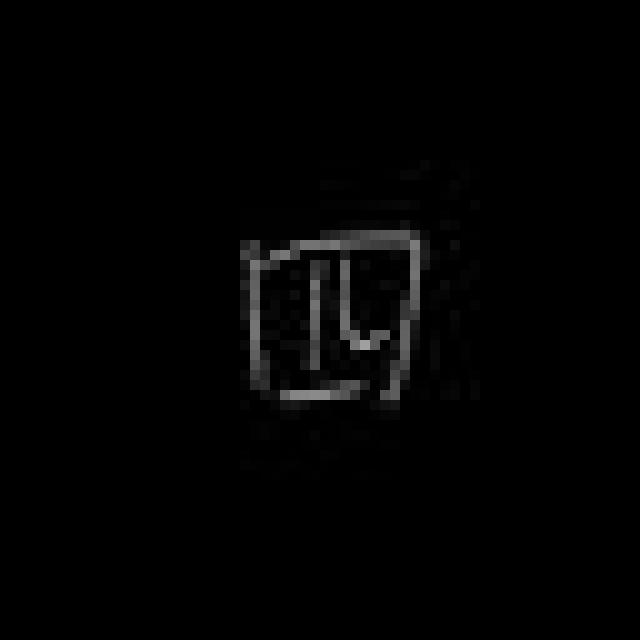4 -four-: (233, 216, 432, 421)
